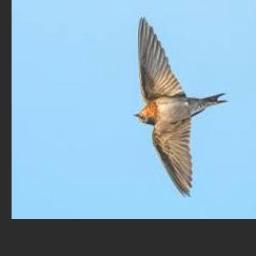Swallow: (133, 17, 227, 199)
